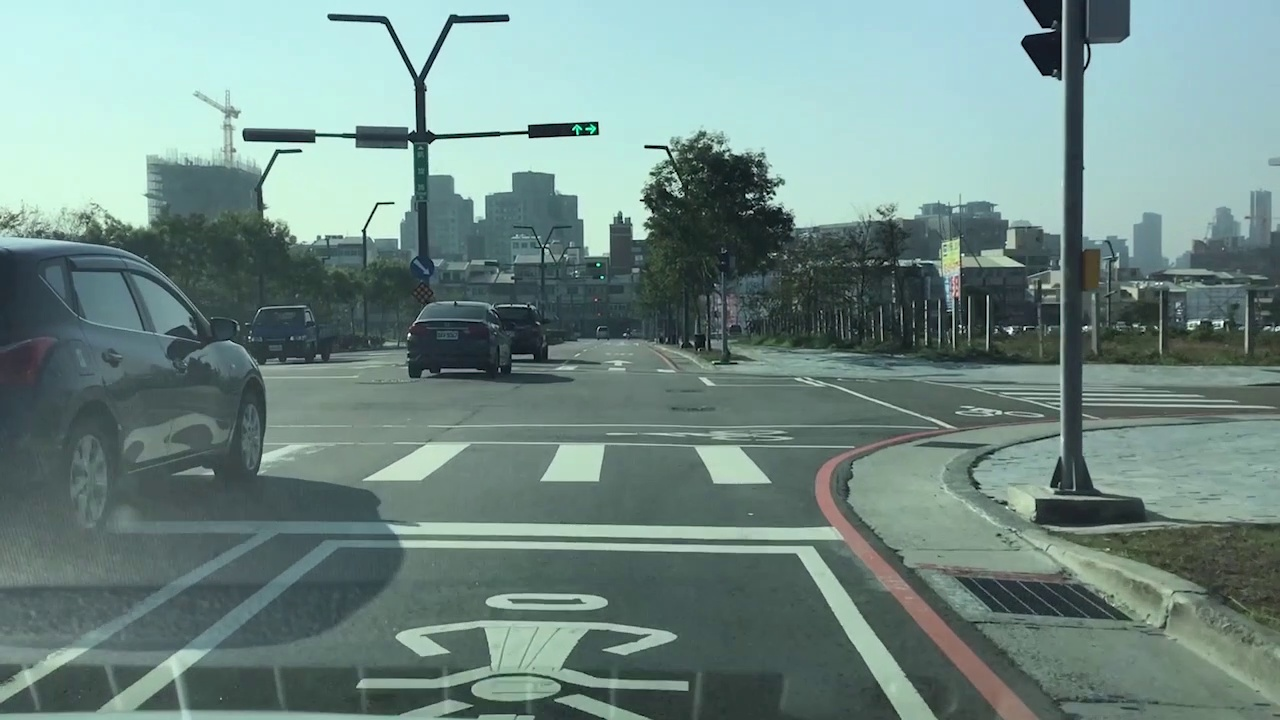Pedestrian_Crossing: (249, 434, 778, 483), (549, 357, 700, 369)
